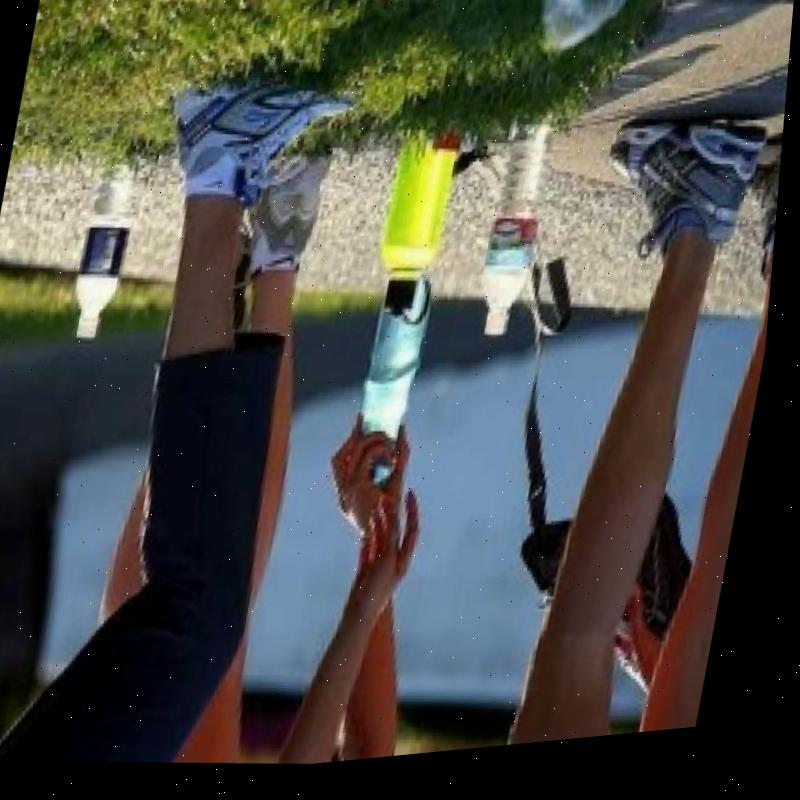botella: (474, 130, 564, 350), (70, 150, 149, 344), (536, 0, 639, 61)
